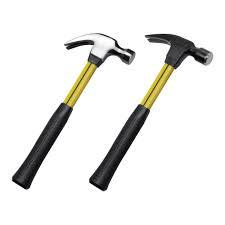hammer: (7, 29, 136, 190), (86, 31, 214, 191)
